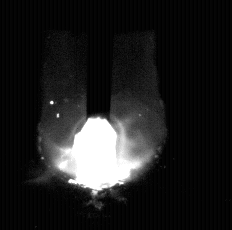arame: (88, 0, 111, 120)
poca: (38, 0, 167, 230)
